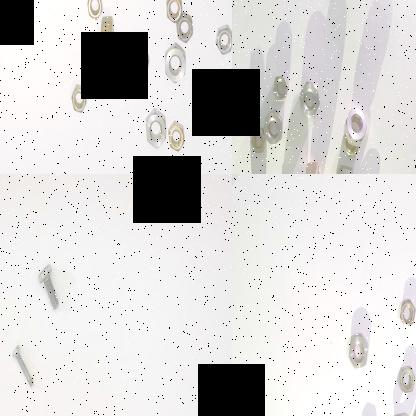Bolts: (33, 260, 63, 312), (7, 341, 36, 389)
NUTS: (161, 42, 187, 86), (344, 103, 370, 147), (346, 327, 370, 372), (126, 40, 150, 84), (297, 76, 321, 120), (263, 105, 285, 151), (144, 108, 168, 150), (100, 12, 118, 68), (247, 123, 271, 160), (174, 9, 195, 47), (395, 295, 416, 330), (338, 130, 362, 160), (398, 358, 416, 396), (166, 120, 186, 154), (92, 70, 112, 101), (270, 74, 292, 102), (164, 0, 184, 29), (70, 82, 88, 114), (214, 24, 232, 55), (84, 0, 102, 22), (303, 156, 323, 174), (333, 163, 357, 174), (384, 408, 411, 416)
